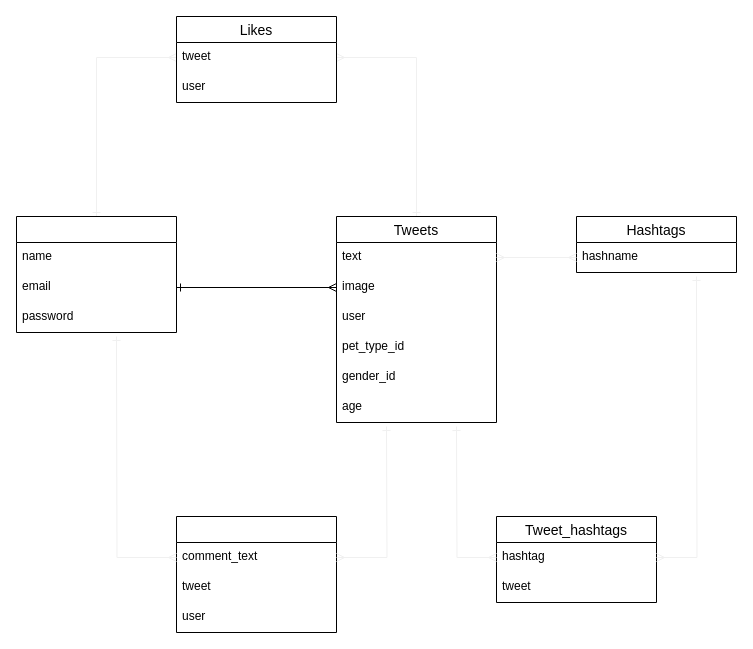
The diagram is 753 pixels wide and 649 high, and some of its shapes have lost their labels. Here are the shapes that lost their labels. From the top down, the box of each, then its label:
(16, 216, 176, 332): Users
(176, 516, 336, 632): Comments
